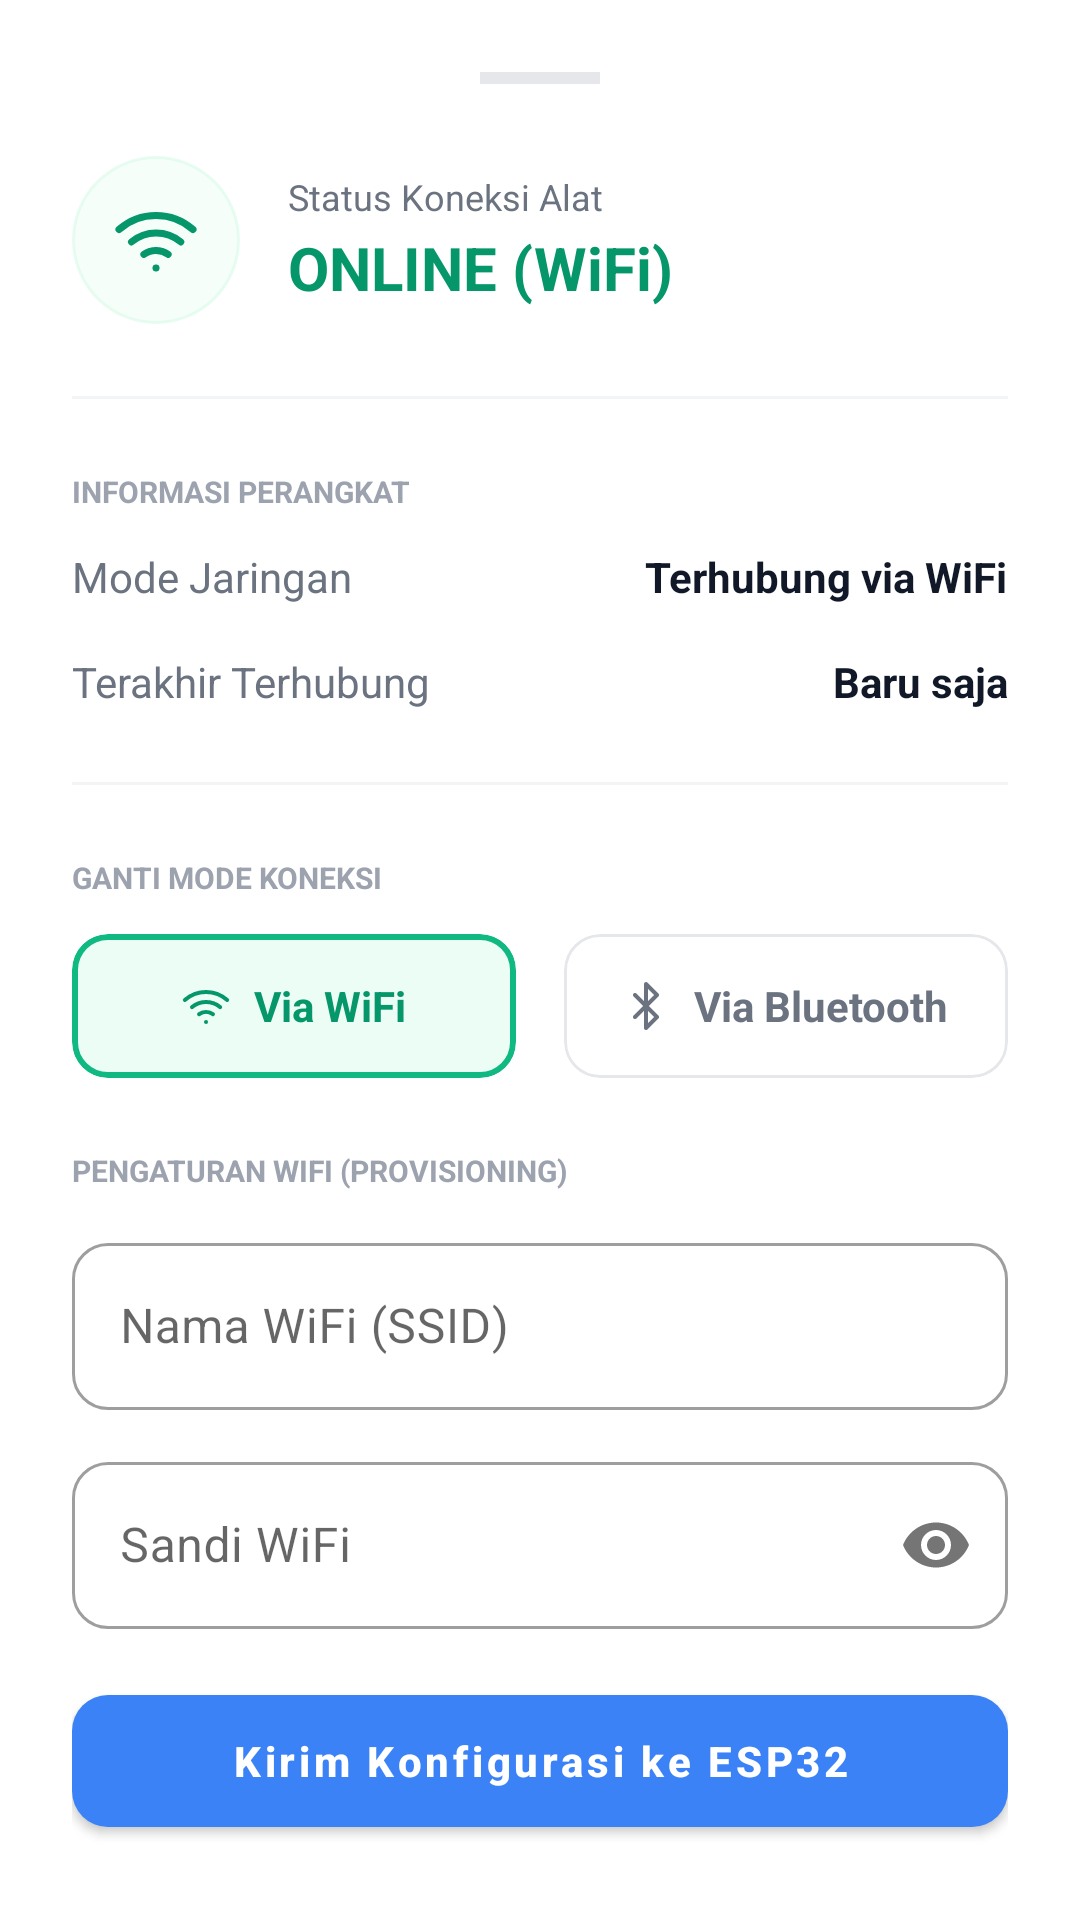

Screen size 1080w x 1920h. Icon name, then its box in pixels as (x1, y1, x2, y2):
wifi status: (72, 156, 240, 324), (182, 990, 230, 1024)
